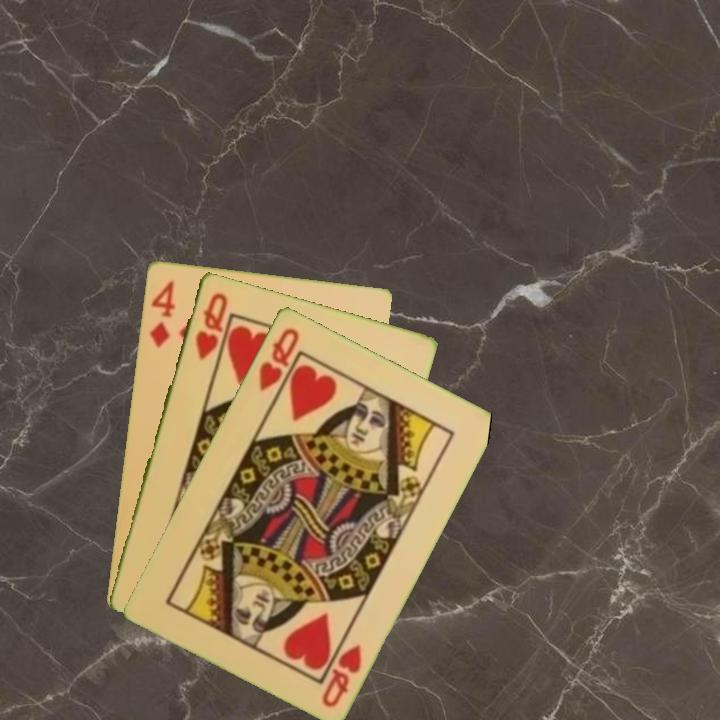4d: (145, 276, 178, 351)
Qh: (317, 639, 365, 710), (255, 323, 302, 393), (191, 288, 230, 362)
